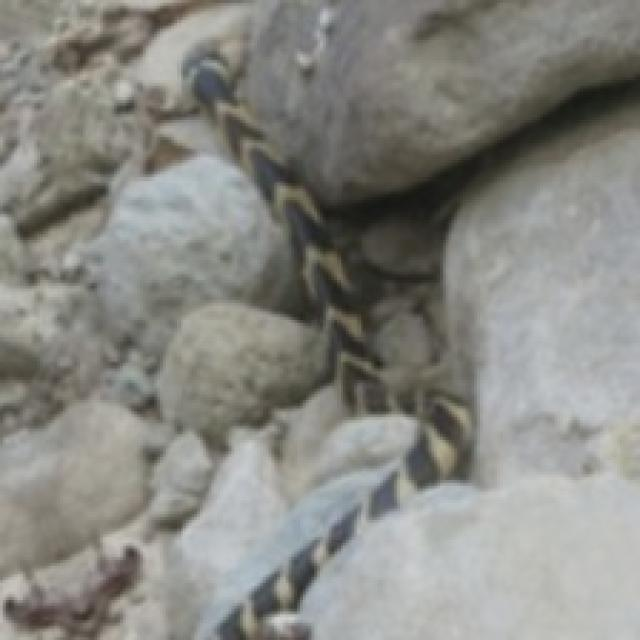king cobra: (157, 89, 471, 637)
